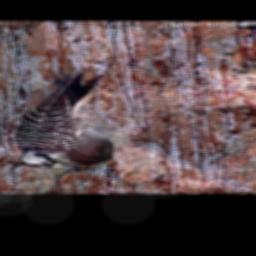Woodpecker: (15, 72, 100, 169)
